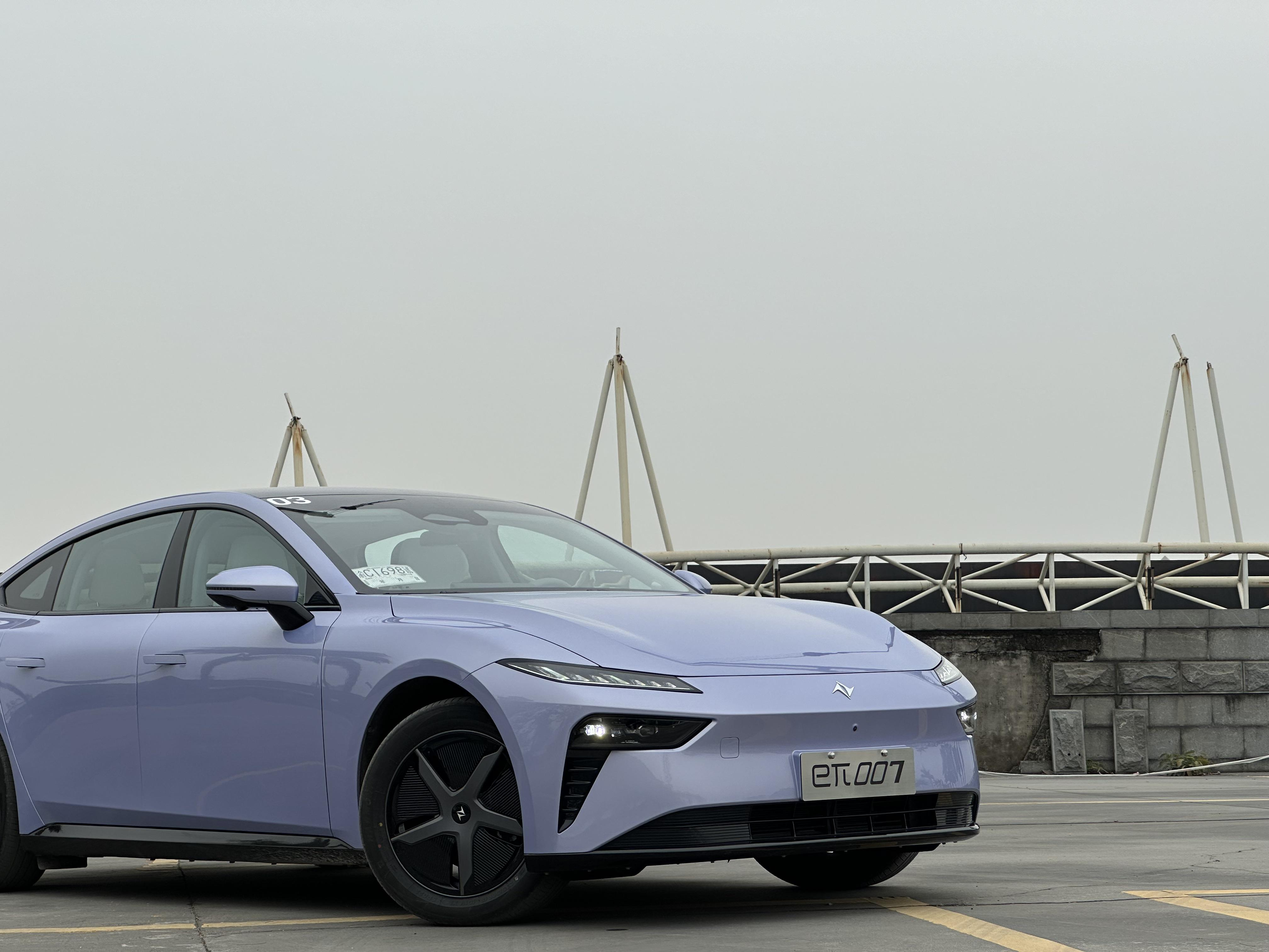other: (0, 484, 989, 923)
